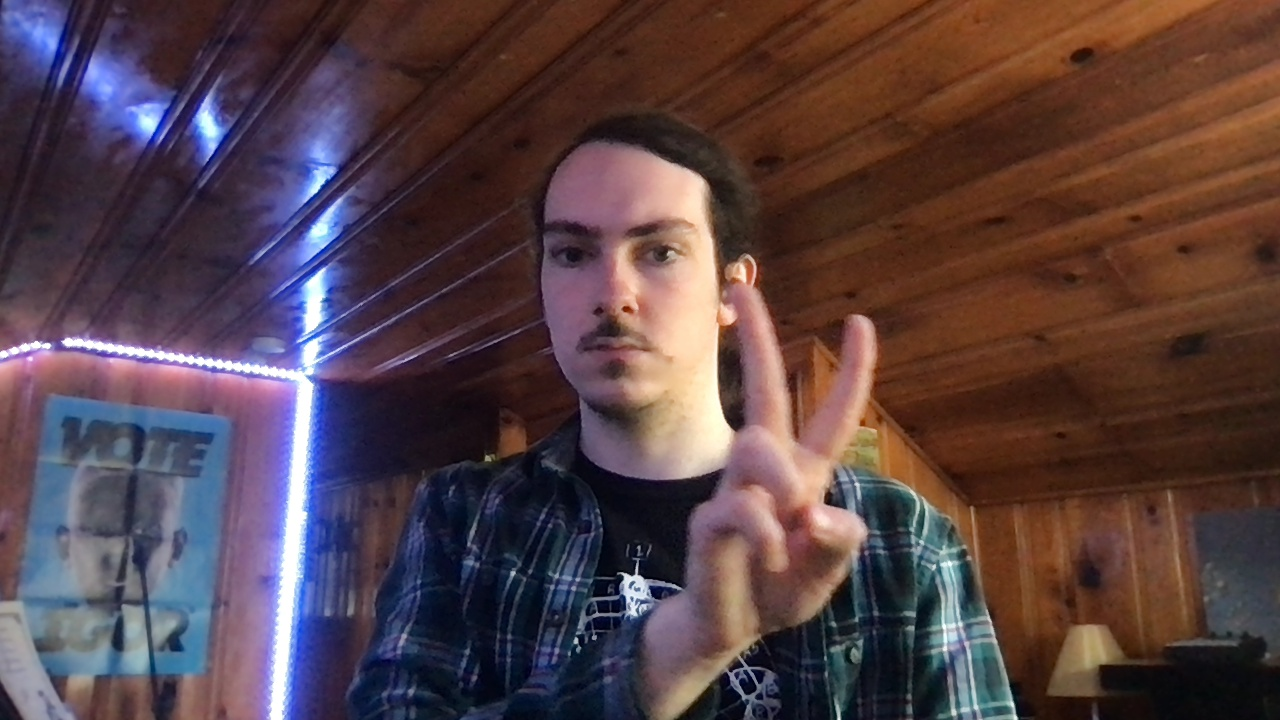v: (681, 281, 879, 654)
